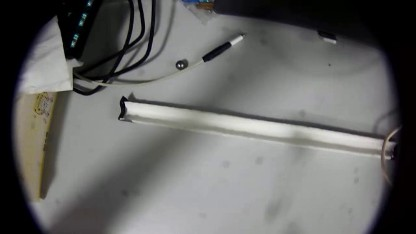gangzhu: (174, 59, 187, 70)
